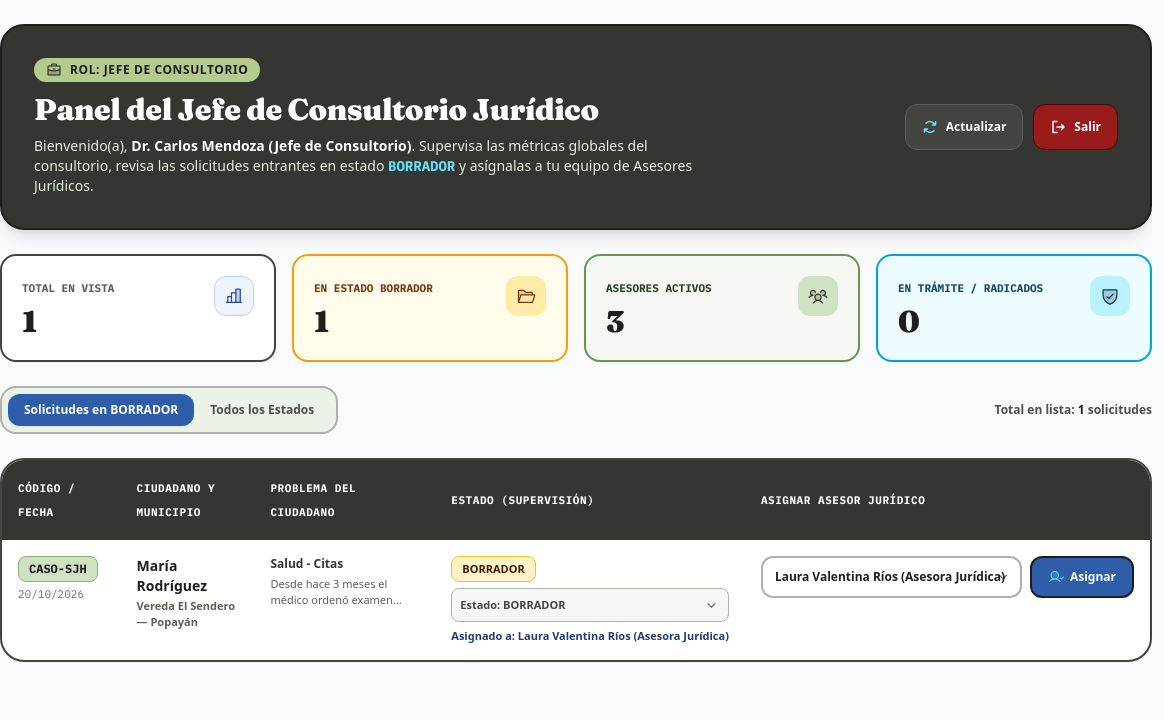
Tier 4: Real-World Rural Citizen Journeys & RBAC Security Flows › Scenario 2 (Logout & RBAC): Clears storage on logout and blocks returning to protected routes
Check: the heading "Panel del Jefe de Consultorio Jurídico" is shown, box [34,91,599,128]
# Cerrar sesión con el botón Salir
Click the button "Salir" at (1076, 127), box [1033,104,1118,150]
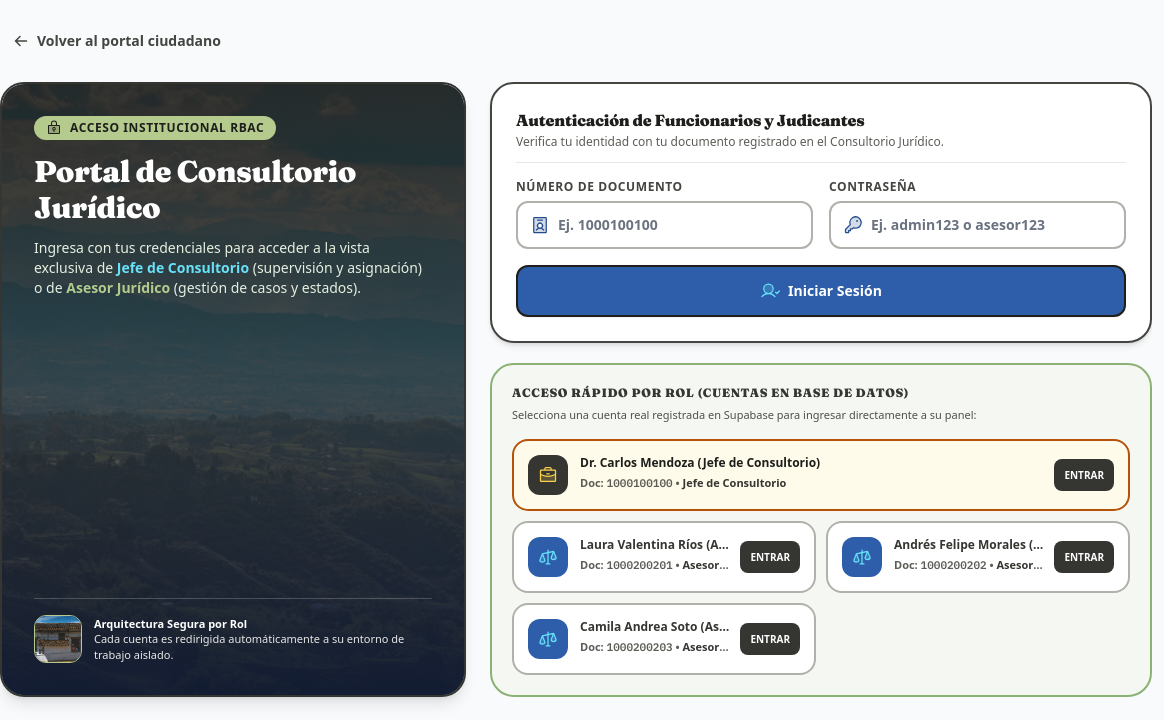
Check: the heading "Portal de Consultorio Jurídico" is shown, box [34,153,356,226]
